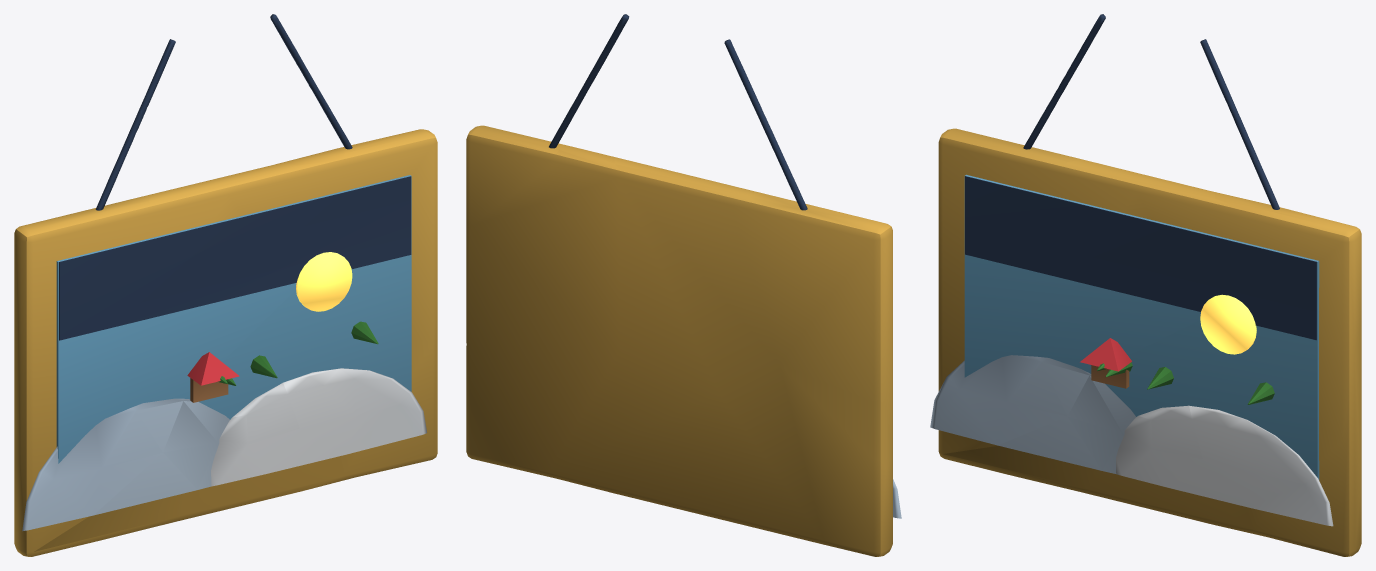
File: frost_picture_frame_lod1.glb
3 views of the same model, side by side, from view 1: azimuth 30°, elevation 25°; view 2: azimuth 150°, elevation 25°; view 3: azimuth 330°, elevation 25° (orthographic).
Parts seen in each view (by area): view 1: frost_picture_frame.001; view 2: frost_picture_frame.001; view 3: frost_picture_frame.001.
Part boxes in pixels (left/top/right/bottom): frost_picture_frame.001: left=14, top=14, right=437, bottom=556; frost_picture_frame.001: left=466, top=14, right=901, bottom=556; frost_picture_frame.001: left=930, top=14, right=1361, bottom=556.
Bounding box in the file's own units: 16.16 × 17.54 × 2.31.
